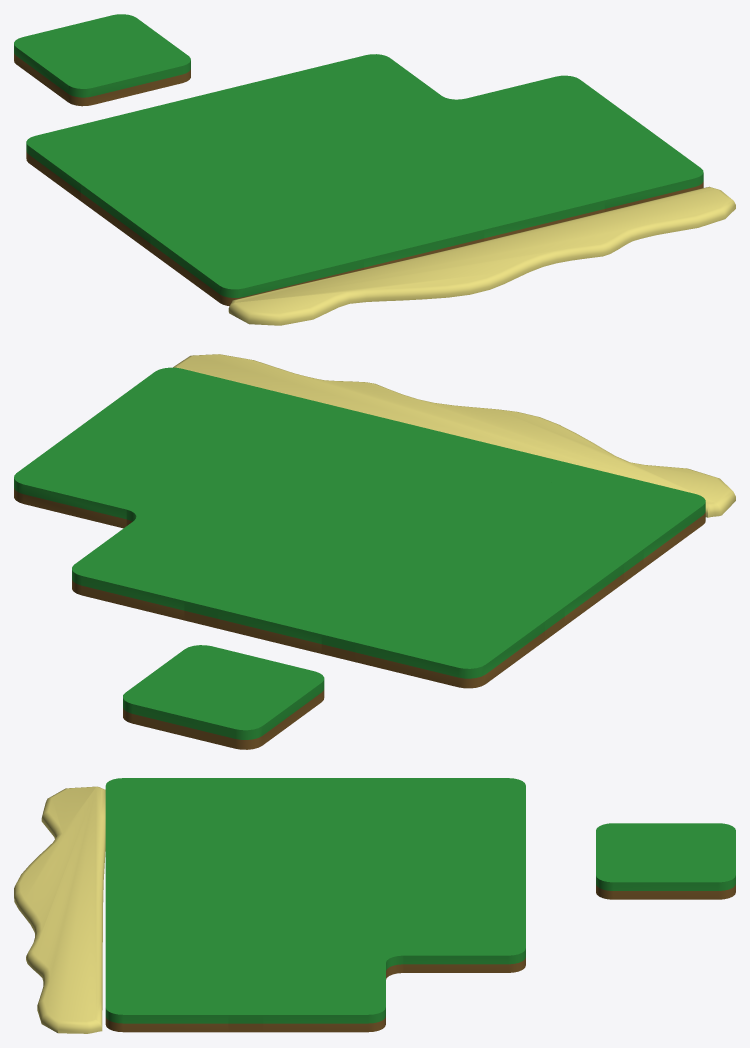
Rendered from level layout material.fbx.
3 views of the same model, one above another, from view 1: azimuth 30°, elevation 25°; view 2: azimuth 150°, elevation 25°; view 3: azimuth 270°, elevation 25° (orthographic). The views are drawn at different scales.
Parts seen in each view (by area): view 1: BezierCurve, Center.027, Center.059, Center.068, Center.064, Center.055, Center.017, Center.041, Center.022, Center.036, Center.050, Center.046 (+1 smaller); view 2: BezierCurve, Center.027, Center.017, Center.050, Center.030, Center.022, Center.059, Center.041, Center.036, Center.055, Center.068, Center.046 (+1 smaller); view 3: BezierCurve, Center.027, Center.068, Center.050, Center.030, Center.064, Center.055, Center.046, Center.036, Center.041, Center.059, Center.022 (+1 smaller).
Part boxes in pixels (box(x1,y1,x2,y2)): BezierCurve: box(228, 186, 735, 325); Center.027: box(14, 14, 190, 106); Center.059: box(165, 214, 342, 306); Center.068: box(526, 126, 703, 211); Center.064: box(406, 156, 582, 241); Center.055: box(286, 185, 462, 269); Center.017: box(26, 113, 203, 200); Center.041: box(96, 163, 272, 251); Center.022: box(147, 83, 323, 158); Center.036: box(216, 134, 393, 209); Center.050: box(457, 75, 633, 150); Center.046: box(336, 105, 513, 179); BezierCurve: box(173, 354, 735, 517); Center.027: box(123, 645, 324, 749); Center.017: box(346, 583, 547, 688); Center.050: box(14, 425, 215, 528); Center.030: box(72, 517, 273, 620); Center.022: box(209, 550, 410, 653); Center.059: box(504, 468, 705, 568); Center.041: box(425, 525, 626, 625); Center.036: box(288, 492, 489, 577); Center.055: box(367, 434, 568, 519); Center.068: box(93, 367, 294, 452); Center.046: box(151, 459, 352, 543); BezierCurve: box(14, 786, 105, 1033); Center.027: box(596, 823, 735, 899); Center.068: box(105, 955, 245, 1032); Center.050: box(245, 955, 385, 1032); Center.030: box(386, 896, 525, 972); Center.064: box(105, 896, 245, 955); Center.055: box(105, 837, 245, 896); Center.046: box(245, 896, 385, 955); Center.036: box(245, 837, 385, 896); Center.041: box(245, 778, 385, 837); Center.059: box(105, 778, 245, 837); Center.022: box(386, 837, 525, 896).
Size of the model in its own units: 1624 by 54.66 by 2062.
